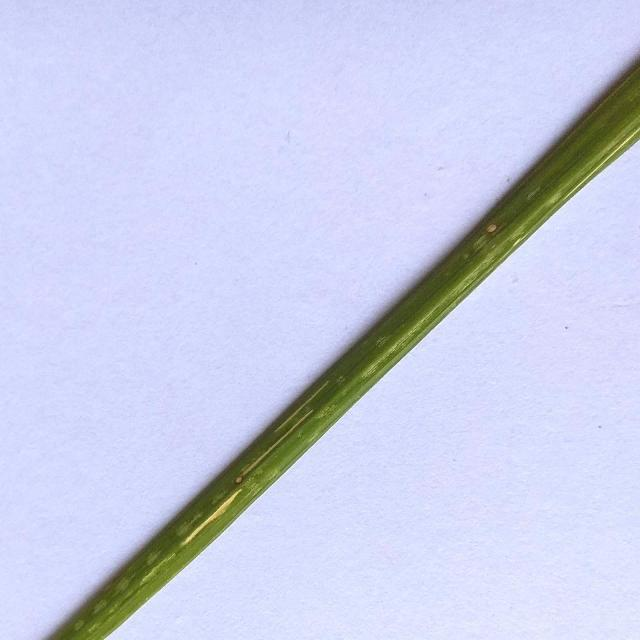Leaf_Blast: (483, 217, 508, 245)
